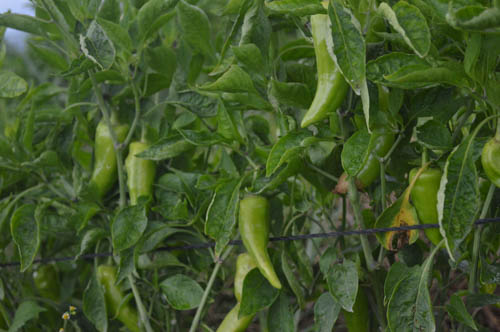ChiliPepper: (303, 12, 349, 144), (237, 198, 280, 286), (349, 124, 397, 186), (90, 122, 125, 194), (408, 169, 439, 237), (93, 271, 129, 325), (123, 144, 152, 201), (225, 261, 260, 299), (30, 268, 57, 299), (217, 308, 251, 332)
